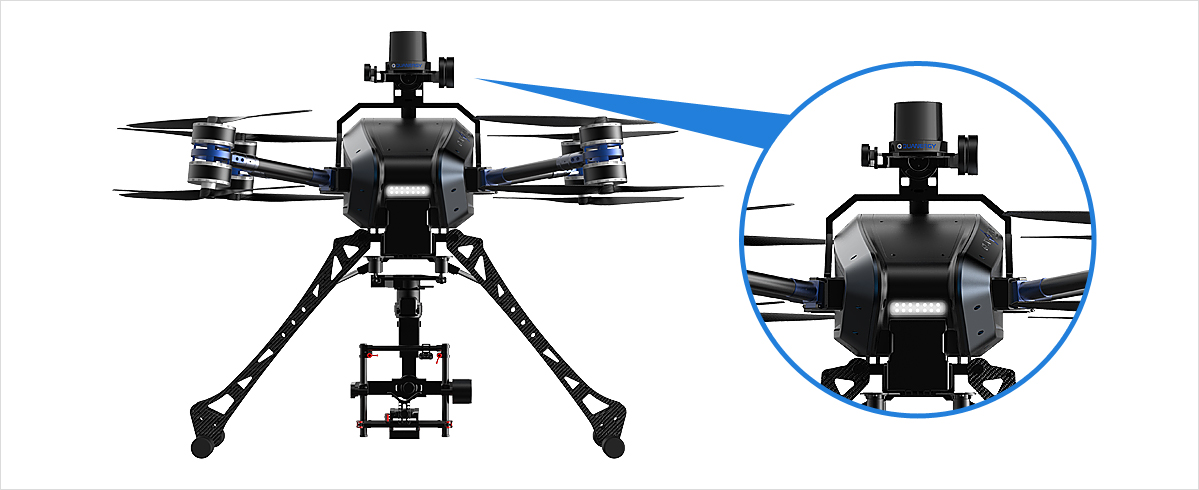drone: (104, 27, 729, 469)
